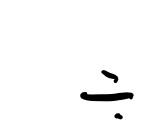div: (80, 70, 134, 119)
